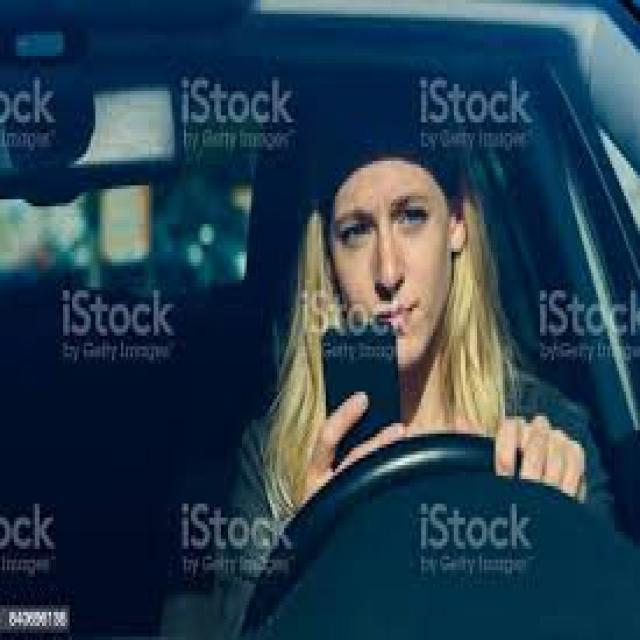Cellphone_texting: (298, 311, 409, 507)
